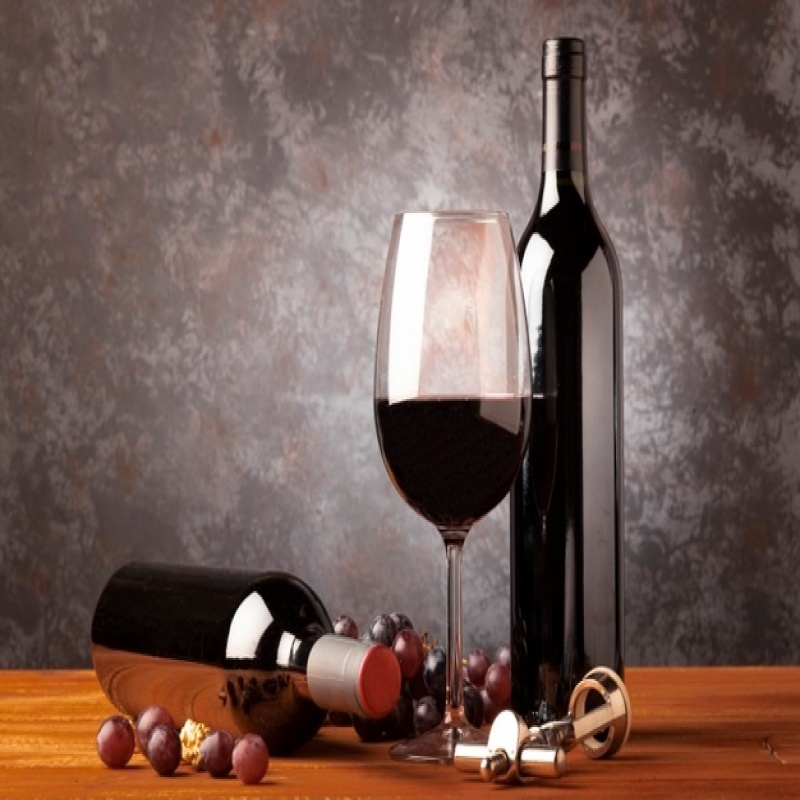wine: (506, 36, 628, 703), (84, 568, 409, 739)
